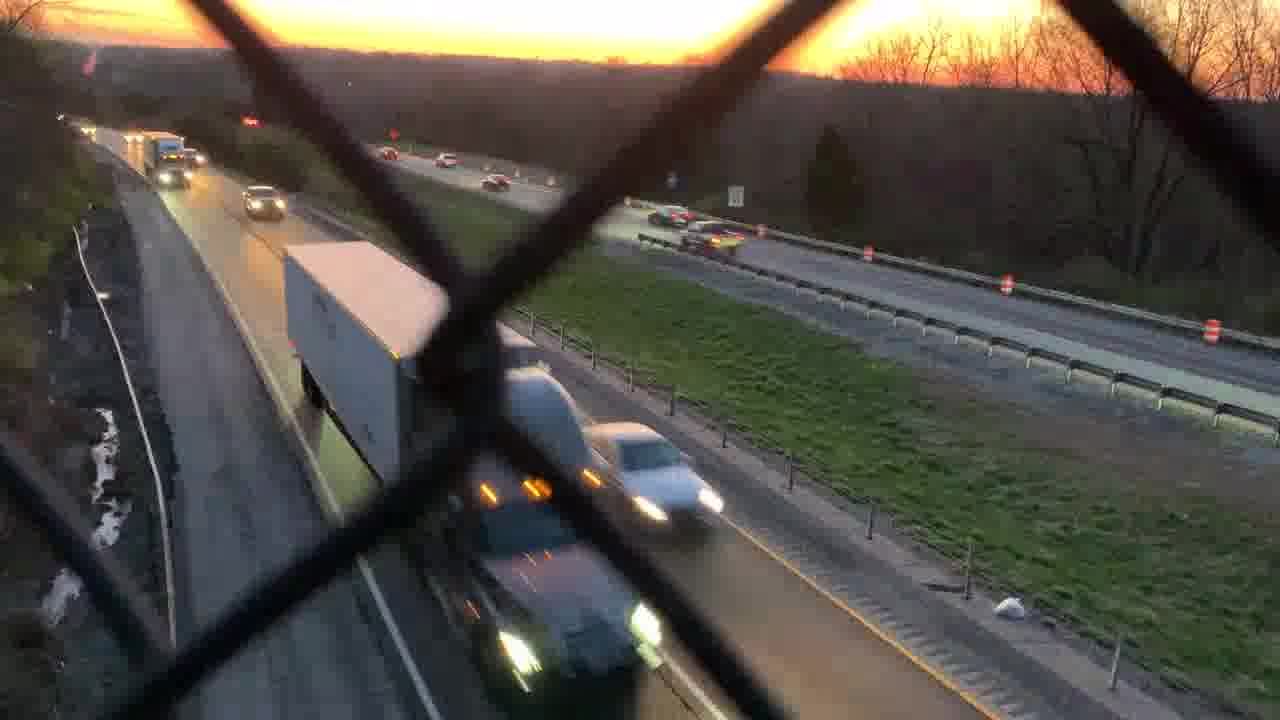heavyTruck: (276, 237, 656, 710), (139, 130, 192, 189)
lightTruck: (679, 221, 742, 256)
smallCar: (579, 417, 724, 538), (647, 203, 688, 226), (478, 167, 509, 191)
